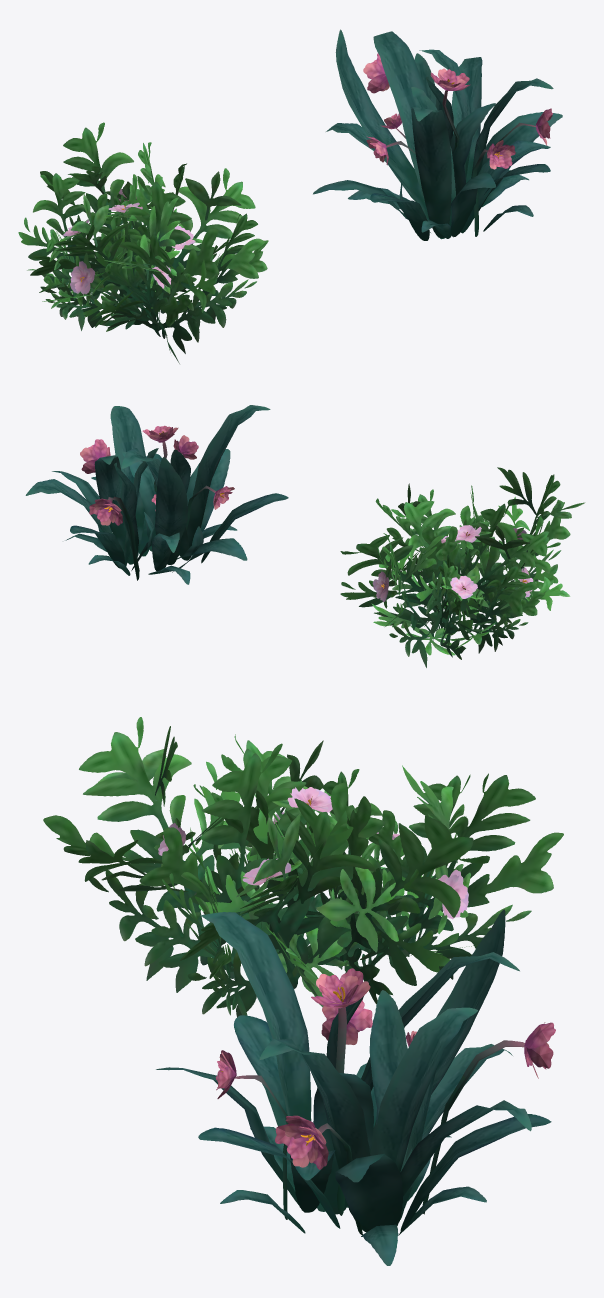
Rendered from flower-bush.gltf.
3 views of the same model, one above another, from view 1: azimuth 30°, elevation 25°; view 2: azimuth 150°, elevation 25°; view 3: azimuth 270°, elevation 25° (orthographic). The views are drawn at different scales.
Visible parts, largest first — view 1: leafy, bloom; view 2: leafy, bloom; view 3: leafy, bloom.
Part boxes in pixels (x1,y1,x2,y2): leafy: (18,122,268,363); bloom: (313,29,562,240); leafy: (340,467,585,667); bloom: (25,405,288,584); leafy: (43,717,563,1017); bloom: (156,909,555,1265).
Bounding box in the file's own units: 1.76 × 0.6 × 1.01.
Materials: 1 (1 with a texture image).
